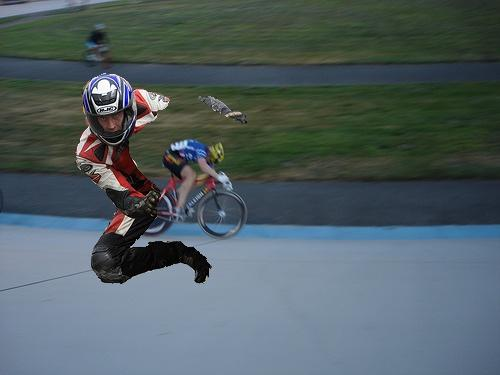tampered: (76, 73, 247, 284)
